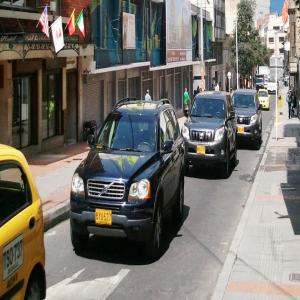Vehicle-registration-plate: (96, 209, 114, 227), (198, 146, 207, 155), (238, 127, 245, 134)
